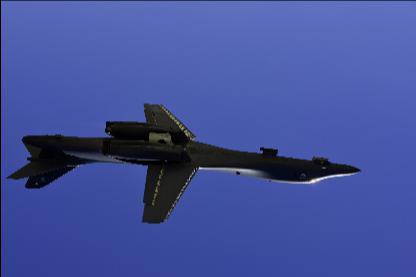AV8B: (5, 102, 361, 223)
